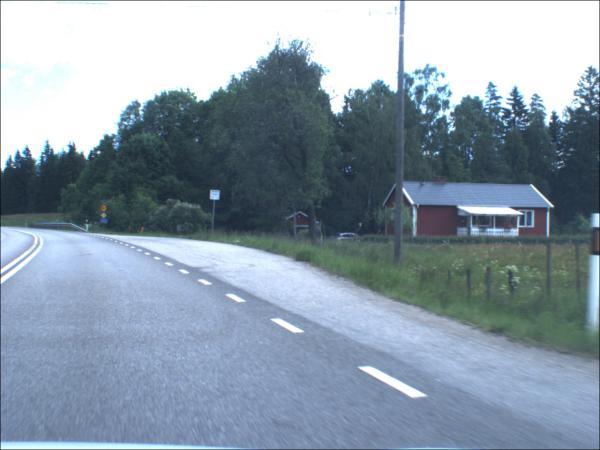80_SIGN: (101, 206, 109, 215)
PRIORITY_ROAD: (103, 214, 109, 220)
